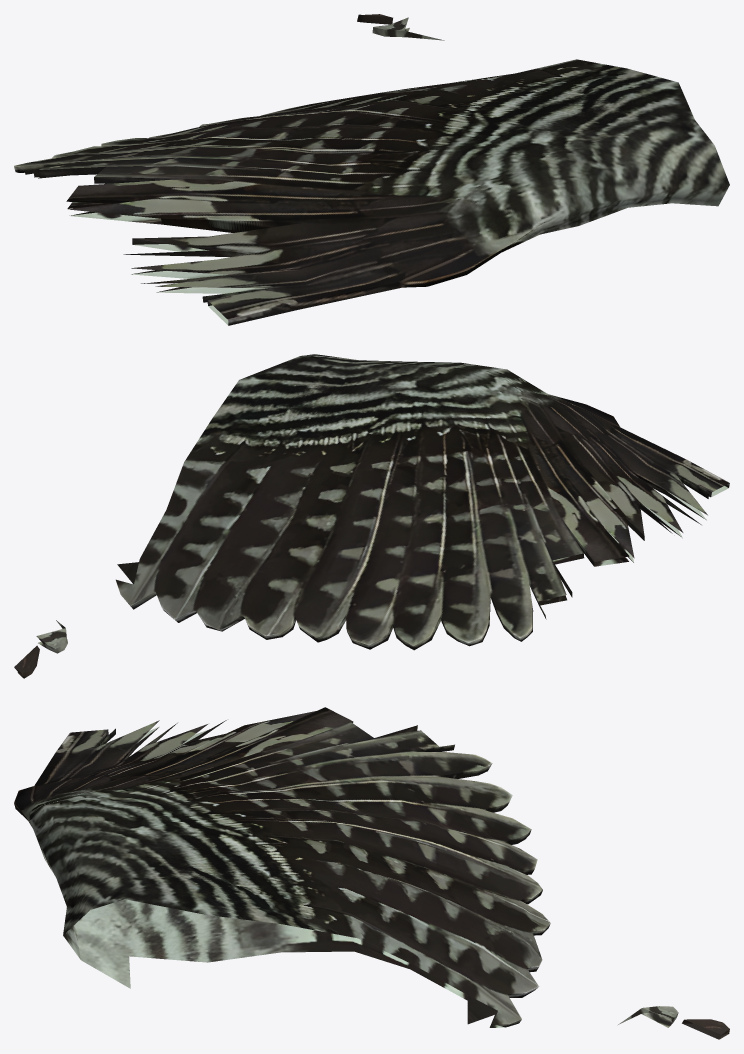
Rendered from Woodpecker_L_in.gltf.
3 renders of one model, top to bottom at view 1: azimuth 30°, elevation 25°; view 2: azimuth 150°, elevation 25°; view 3: azimuth 270°, elevation 25°, orthographic. The views are drawn at different scales.
Parts seen in each view (by area): view 1: Woodpecker_L_in; view 2: Woodpecker_L_in; view 3: Woodpecker_L_in.
Boxes of the visible parts, x1,y1,x2,y2 form: Woodpecker_L_in: [14, 14, 729, 325]; Woodpecker_L_in: [14, 354, 729, 678]; Woodpecker_L_in: [14, 707, 729, 1039].
Size of the model in its own units: 0.0906 by 0.025 by 0.1123.
Materials: 1 (1 with a texture image).
